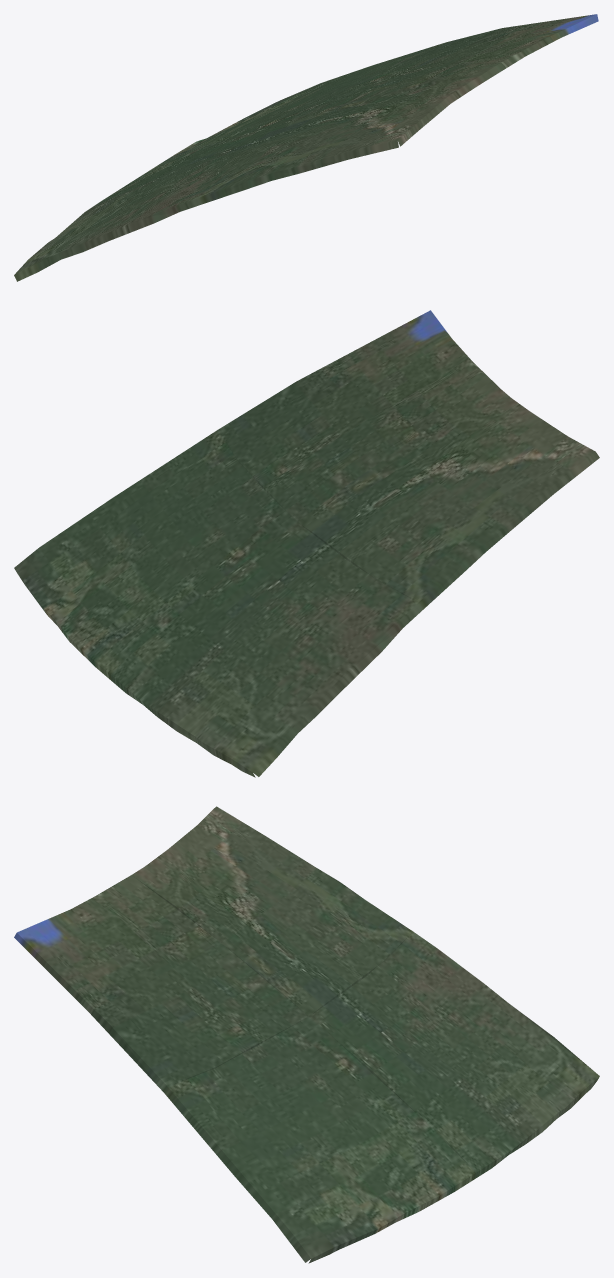
3 views of the same model, one above another, from view 1: azimuth 90°, elevation 25°; view 2: azimuth 150°, elevation 25°; view 3: azimuth 270°, elevation 25° (orthographic). The views are drawn at different scales.
Bounding box in the file's own units: 1591771 × 616917 × 1565527.
Materials: 1 (1 with a texture image).
